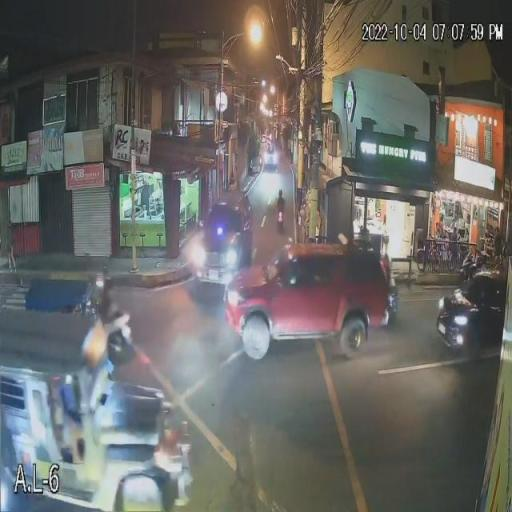helmet: (278, 189, 284, 196)
motorcycle: (275, 198, 285, 232)
rider: (276, 198, 286, 212)
